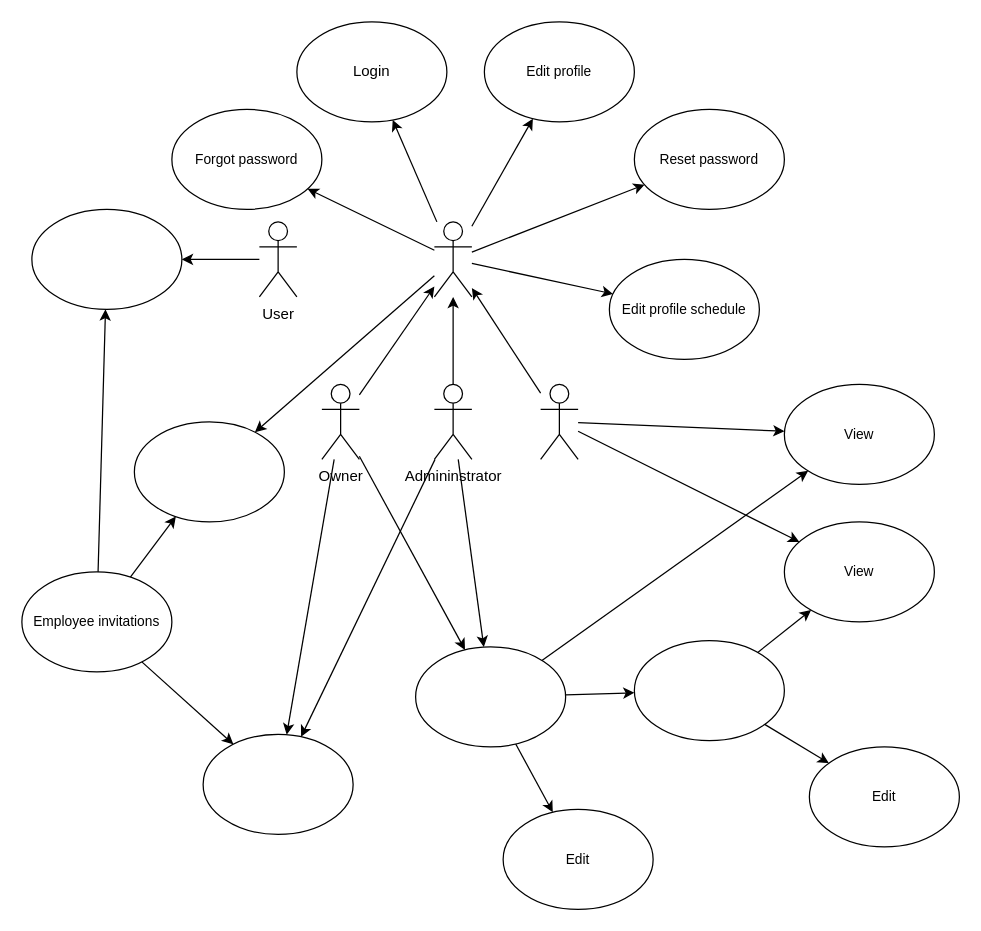
Some shapes in this 981 by 931 pixel diagram are drawn without their labels. Here are the shapes that lost their labels. From the top down, the centre of each, then its label:
point (106, 258): Accept invitation
point (452, 259): Clinic user
point (558, 421): Doctor
point (208, 471): View invitations
point (490, 696): Employee
point (708, 690): Employee schedule
point (277, 783): Invite employee
